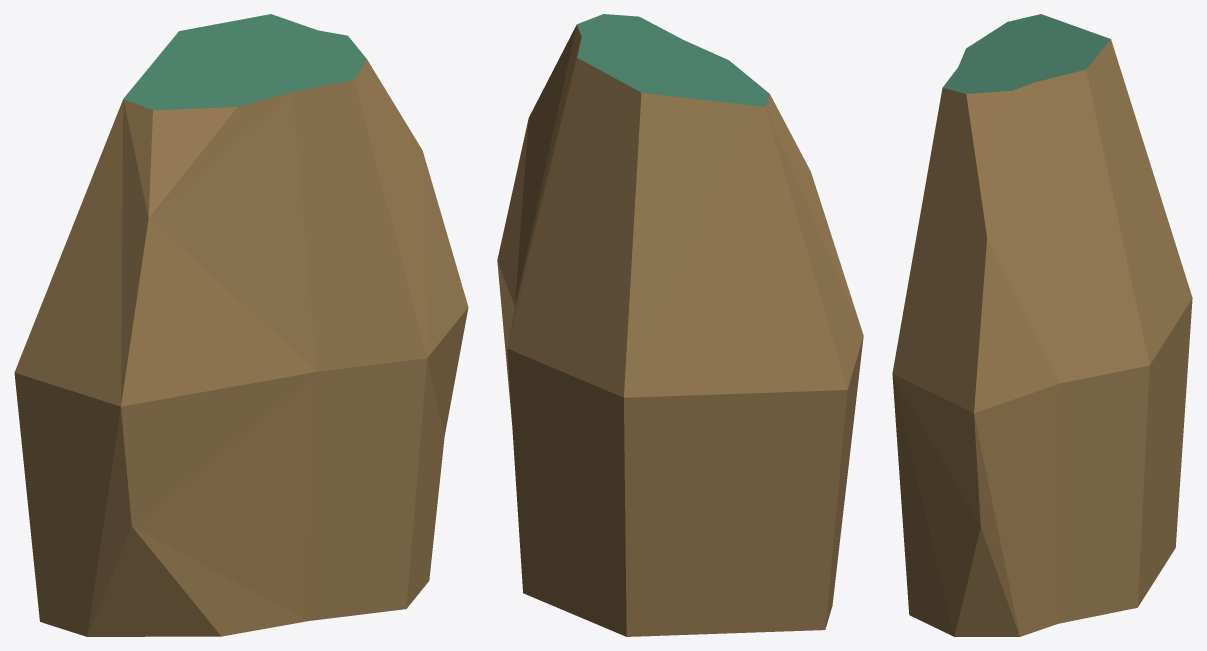
Rendered from Rock_Large_Mesa_Eroded_Moss_Grass_09.FBX.
The picture shows the model from 3 angles, left to right: view 1: azimuth 30°, elevation 25°; view 2: azimuth 150°, elevation 25°; view 3: azimuth 270°, elevation 25°; orthographic projection. The views are drawn at different scales.
Parts seen in each view (by area): view 1: Rock_Large_Mesa_Eroded_Moss_Grass_09; view 2: Rock_Large_Mesa_Eroded_Moss_Grass_09; view 3: Rock_Large_Mesa_Eroded_Moss_Grass_09.
Boxes of the visible parts, x1=… form: Rock_Large_Mesa_Eroded_Moss_Grass_09: x1=14, y1=14, x2=468, y2=636; Rock_Large_Mesa_Eroded_Moss_Grass_09: x1=497, y1=14, x2=863, y2=636; Rock_Large_Mesa_Eroded_Moss_Grass_09: x1=892, y1=14, x2=1192, y2=636.
Size of the model in its own units: 5778 by 7308 by 3791.
